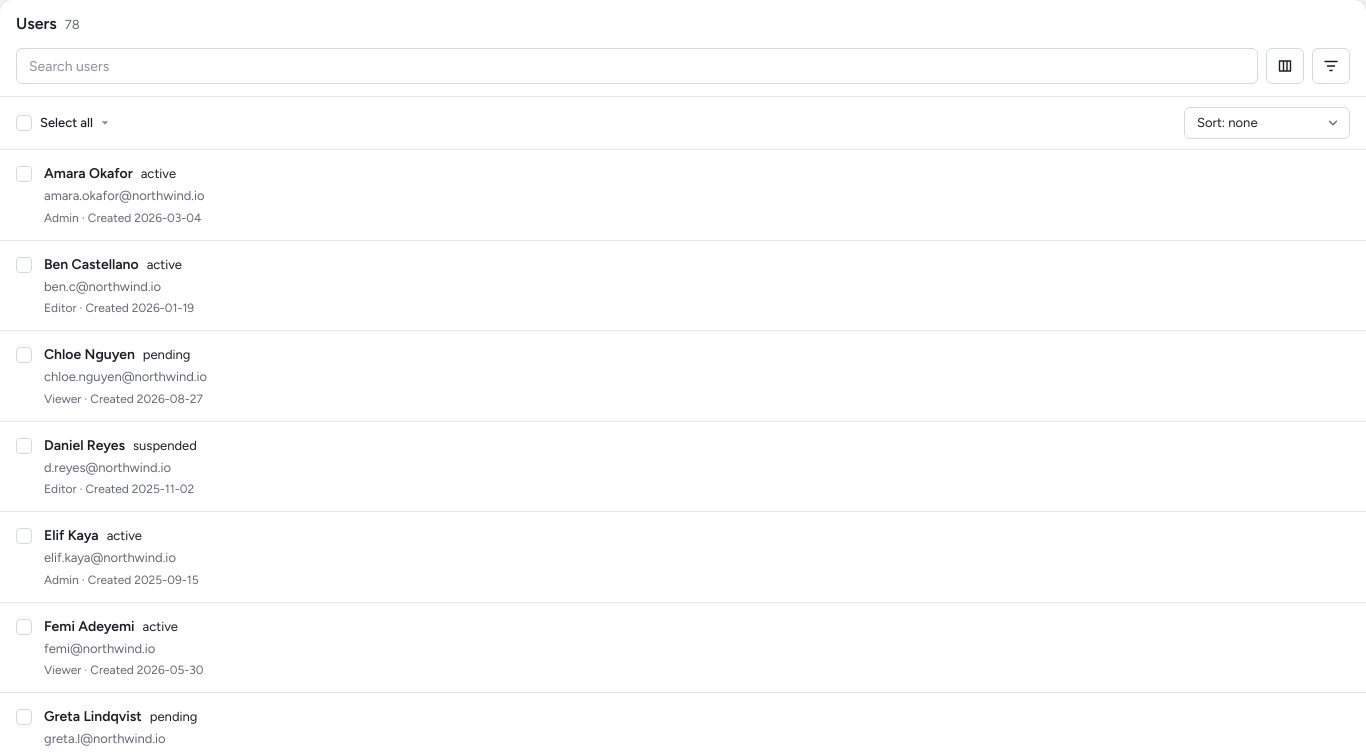
Scenario: DataTable · responsive layouts › renders cards on mobile with title, badge, subtitle and meta
Expected: the text "Amara Okafor" is shown, [44,164,133,184]
Expected: the text "amara.okafor@northwind.io" is shown, [44,188,204,203]
Select "Sort: Name ↓" in the dropdown named "Sort": (1267, 123) [1184,107,1350,139]
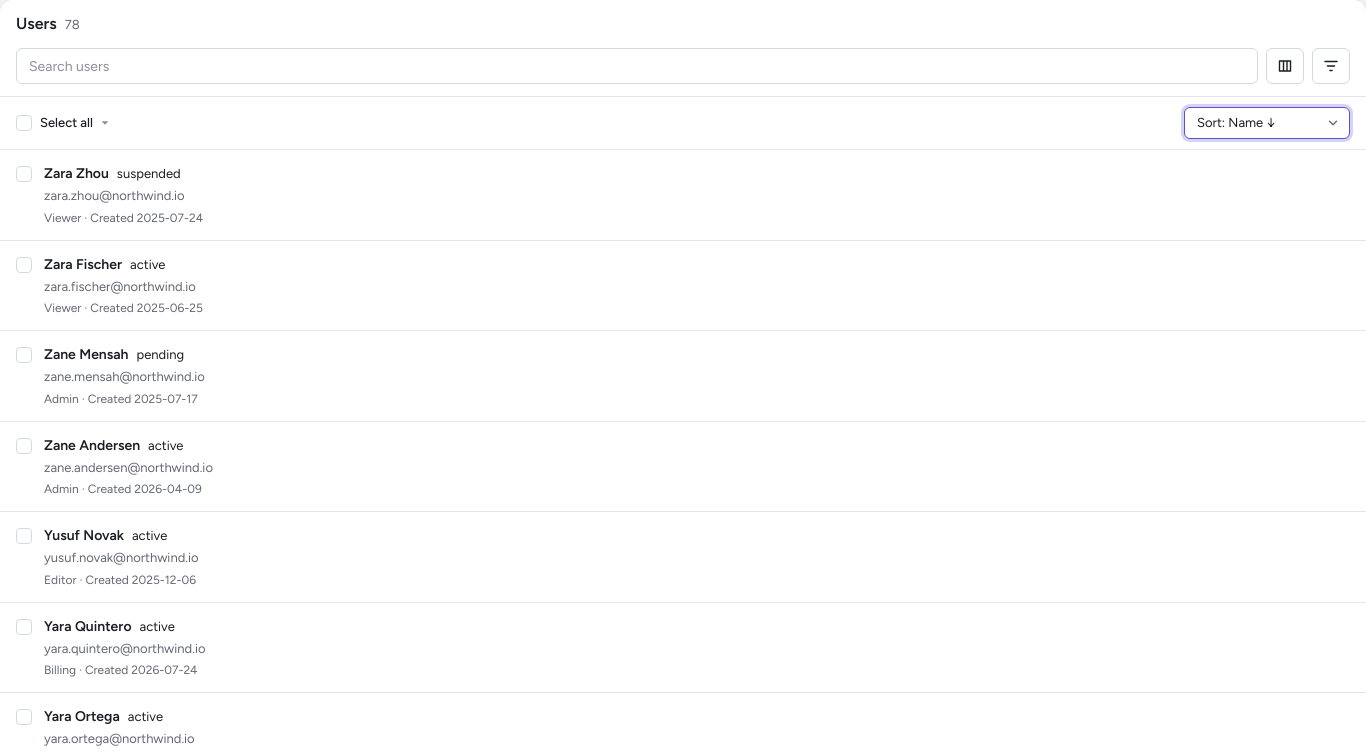
Expected: the list item that starts with "Zara Zhou" no longer shows "Amara Okafor", [0,150,1365,240]
Click the checkbox named "Select all users on this page": (24, 123) [16,115,32,131]
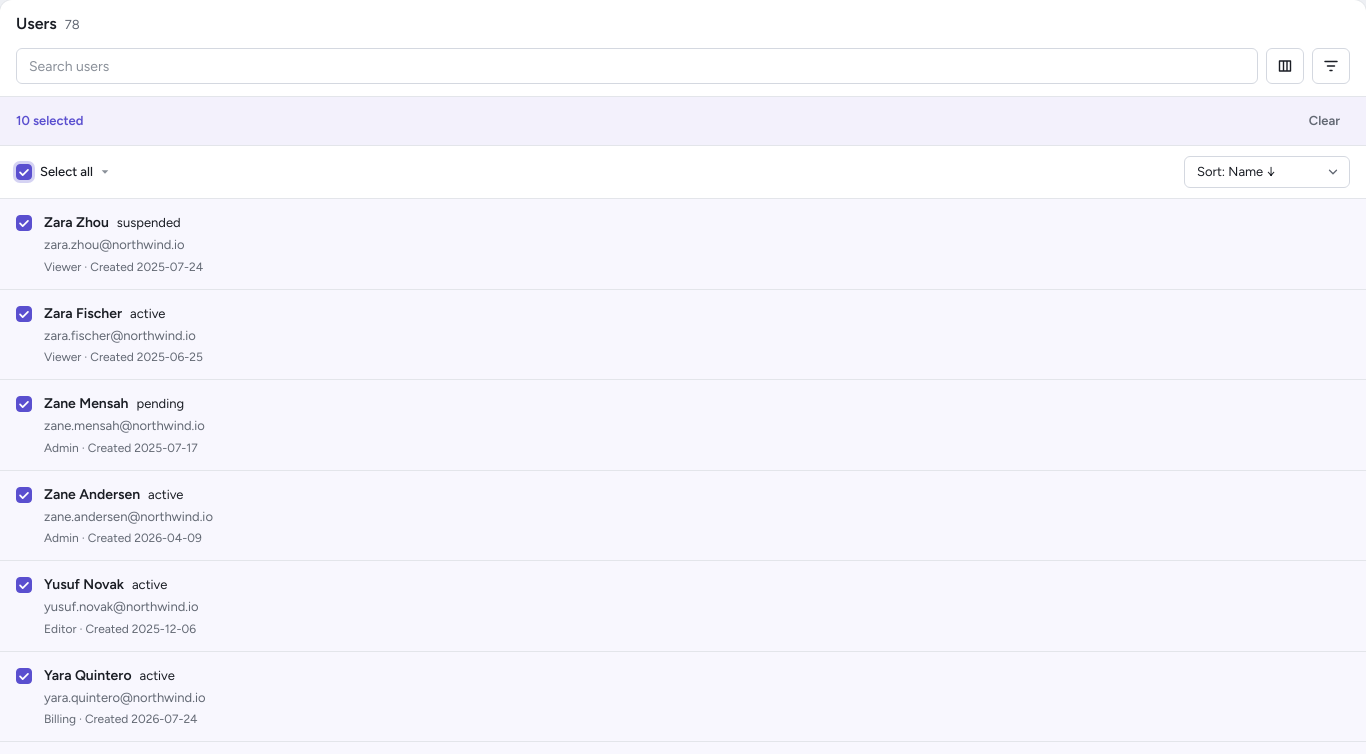
Expected: the element named "Bulk actions" shows "10 selected", [0,96,1365,145]
